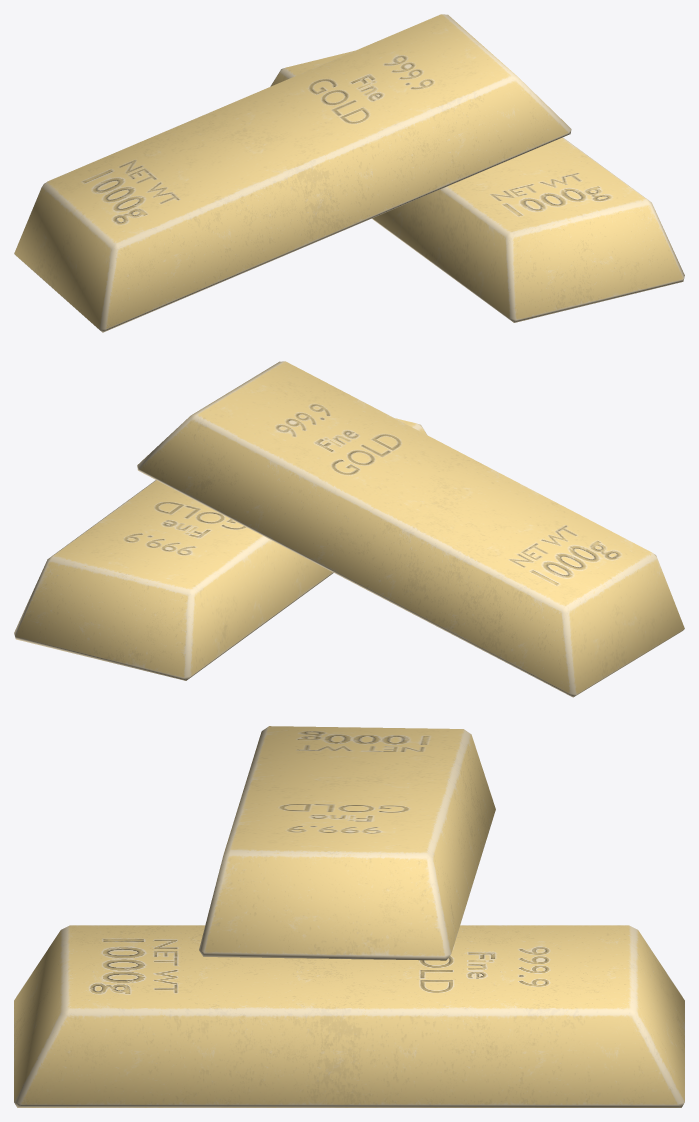
File: GoldBar.fbx
The picture shows the model from 3 angles, top to bottom: view 1: azimuth 30°, elevation 25°; view 2: azimuth 150°, elevation 25°; view 3: azimuth 270°, elevation 25°; orthographic projection. The views are drawn at different scales.
Visible parts, largest first — view 1: Gold Bar.001, Gold Bar; view 2: Gold Bar.001, Gold Bar; view 3: Gold Bar, Gold Bar.001.
Part boxes in pixels (x1=…): Gold Bar.001: x1=14, y1=14, x2=571, y2=332; Gold Bar: x1=270, y1=50, x2=684, y2=322; Gold Bar.001: x1=137, y1=361, x2=684, y2=697; Gold Bar: x1=14, y1=418, x2=426, y2=680; Gold Bar: x1=14, y1=925, x2=684, y2=1107; Gold Bar.001: x1=199, y1=726, x2=495, y2=960.
Size of the model in its own units: 57.83 by 18.66 by 54.53.
Materials: 1 (1 with a texture image).
